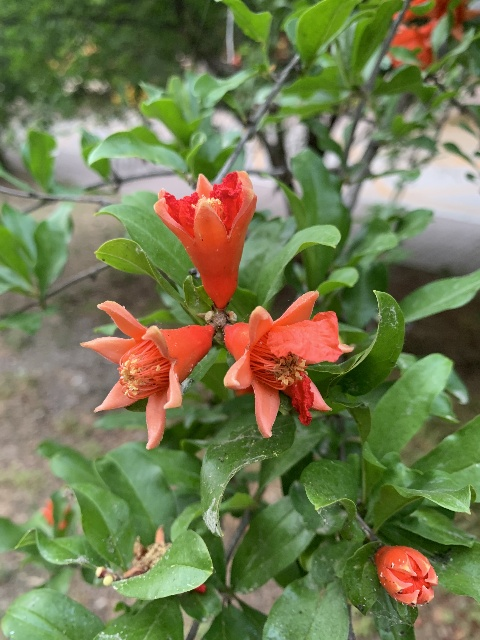flower: (80, 301, 212, 449), (221, 291, 352, 436), (153, 169, 257, 310), (375, 544, 437, 606)
